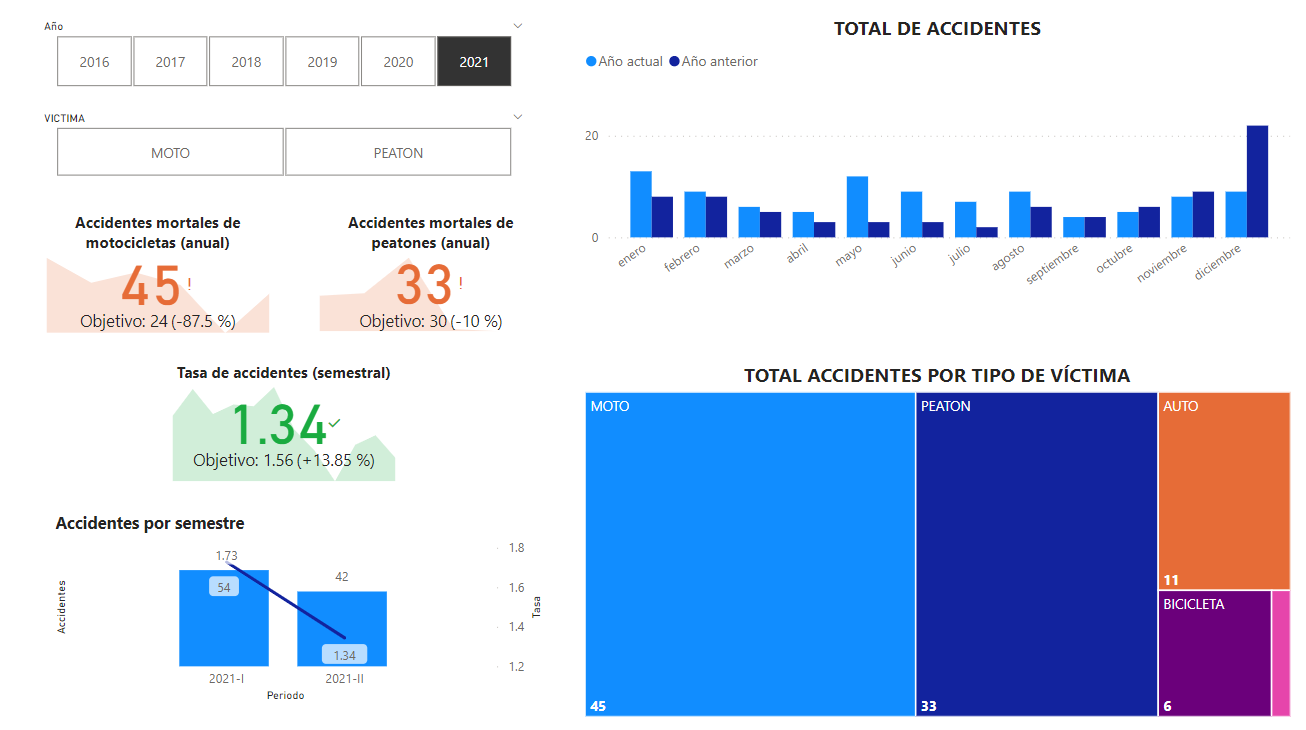

Layout of this report page (visuals, bound fields, positions):
{"tool":"powerbi","page":{"name":"KPIs","canvas":[1280,720],"ordinal":1},"visuals":[{"type":"treemap","title":"TOTAL ACCIDENTES POR TIPO DE VÍCTIMA","fields":{"Group":["homicidios.VICTIMA"],"Values":["medidas (2).Accidentes"]},"box":[574.4,360.8,694.1,349.5],"z":0},{"type":"slicer","fields":{"Values":["TablaFechas.Date.Variación.Jerarquía de fechas.Año"]},"box":[42.1,24.3,490.2,76],"z":1000},{"type":"clusteredColumnChart","title":"TOTAL DE ACCIDENTES","fields":{"Category":["TablaFechas.Date.Variación.Jerarquía de fechas.Año","TablaFechas.Date.Variación.Jerarquía de fechas.Mes"],"Y":["medidas (2).Victimas","medidas (2).Victimas año anterior"]},"box":[574.4,24.3,694.1,284.8],"z":2000},{"type":"kpi","title":"Accidentes mortales de motocicletas (anual)","fields":{"Indicator":["medidas (2).Accidentes moto"],"TrendLine":["TablaFechas.Date.Variación.Jerarquía de fechas.Año"],"Goal":["medidas (2).Objetivo"]},"box":[52.9,215.7,226.5,123],"z":3000},{"type":"kpi","title":"Tasa de accidentes (semestral)","fields":{"TrendLine":["homicidios.Periodo"],"Indicator":["medidas (2).Tasa"],"Goal":["medidas (2).Objetivo tasa"]},"box":[174.7,360.8,226.5,121.3],"z":4000},{"type":"kpi","title":"Accidentes mortales de peatones (anual)","fields":{"Indicator":["medidas (2).Accidentes peatones"],"TrendLine":["TablaFechas.Date.Variación.Jerarquía de fechas.Año"],"Goal":["medidas (2).objetivo peaton"]},"box":[316.6,215.7,226.5,121.3],"z":5000},{"type":"slicer","fields":{"Values":["homicidios.VICTIMA"]},"box":[42.1,113.3,490.2,74.4],"z":6000},{"type":"lineClusteredColumnComboChart","title":"Accidentes por semestre","fields":{"Y":["medidas (2).Accidentes"],"Y2":["Sum(homicidios.Tasa)"],"Category":["homicidios.Periodo"]},"box":[61.5,506.4,482.2,189.3],"z":7000}]}

Visuals, with their boxes in screenshot pixels (x1, y1, x2, y2), scaled from the page's 1280x720 canvas onto the 1306x730 screenshot:
"TOTAL ACCIDENTES POR TIPO DE VÍCTIMA" treemap: pyautogui.locateOnScreen(586, 366, 1294, 720)
slicer - TablaFechas.Date.Variación.Jerarquía de fechas.Año: pyautogui.locateOnScreen(43, 25, 543, 102)
"TOTAL DE ACCIDENTES" clusteredColumnChart: pyautogui.locateOnScreen(586, 25, 1294, 313)
"Accidentes mortales de motocicletas (anual)" kpi: pyautogui.locateOnScreen(54, 219, 285, 343)
"Tasa de accidentes (semestral)" kpi: pyautogui.locateOnScreen(178, 366, 409, 489)
"Accidentes mortales de peatones (anual)" kpi: pyautogui.locateOnScreen(323, 219, 554, 342)
slicer - homicidios.VICTIMA: pyautogui.locateOnScreen(43, 115, 543, 190)
"Accidentes por semestre" lineClusteredColumnComboChart: pyautogui.locateOnScreen(63, 513, 555, 705)
